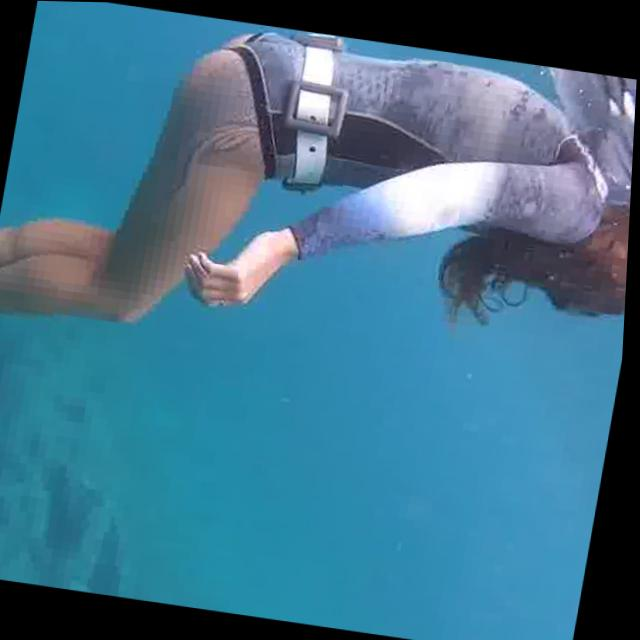human: (0, 0, 640, 474)
